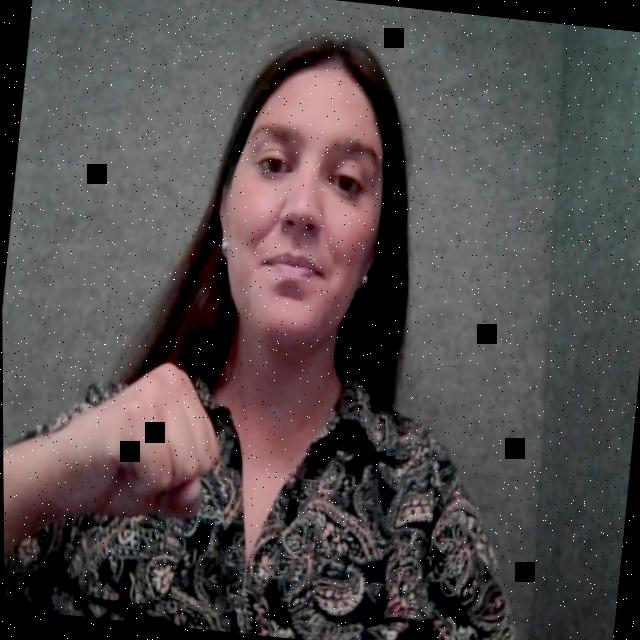Rock: (37, 340, 235, 563)
